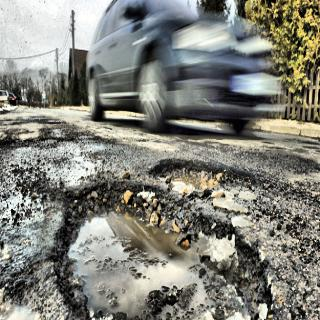pothole: (49, 181, 276, 320), (151, 159, 250, 197)
